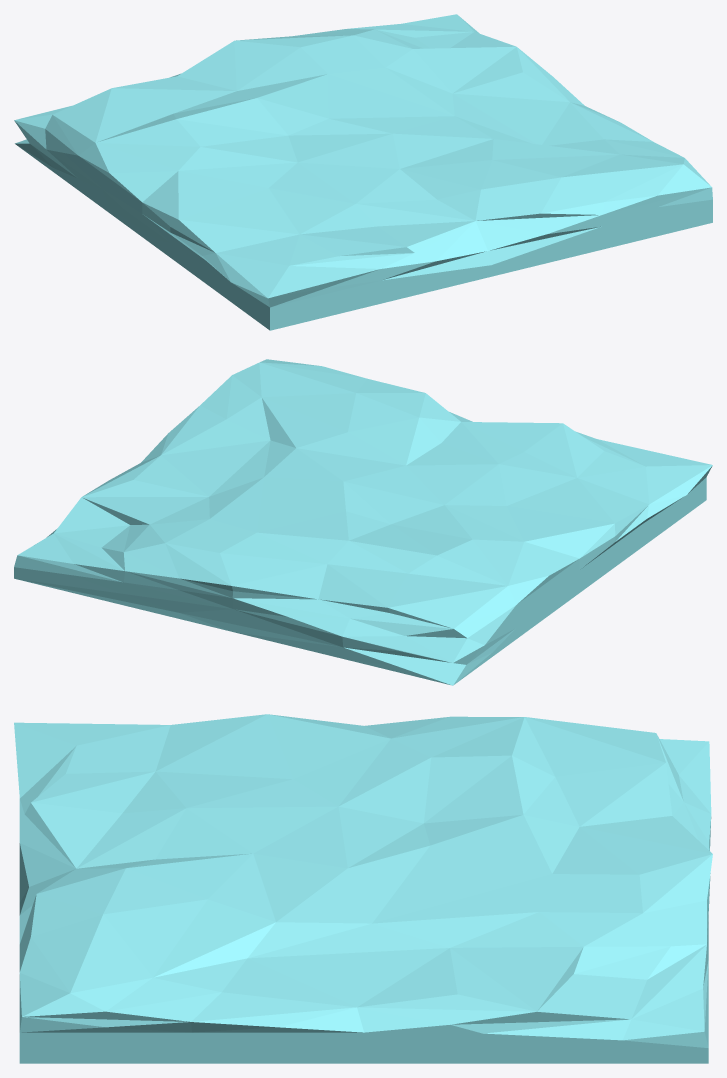
Rendered from tile_water.fbx.
3 views of the same model, one above another, from view 1: azimuth 30°, elevation 25°; view 2: azimuth 150°, elevation 25°; view 3: azimuth 270°, elevation 25° (orthographic). The views are drawn at different scales.
Parts seen in each view (by area): view 1: water; view 2: water; view 3: water.
Boxes of the visible parts, x1,y1,x2,y2 form: water: (14, 14, 712, 330); water: (14, 359, 712, 685); water: (14, 714, 712, 1063).
Size of the model in its own units: 103 by 12.12 by 101.
